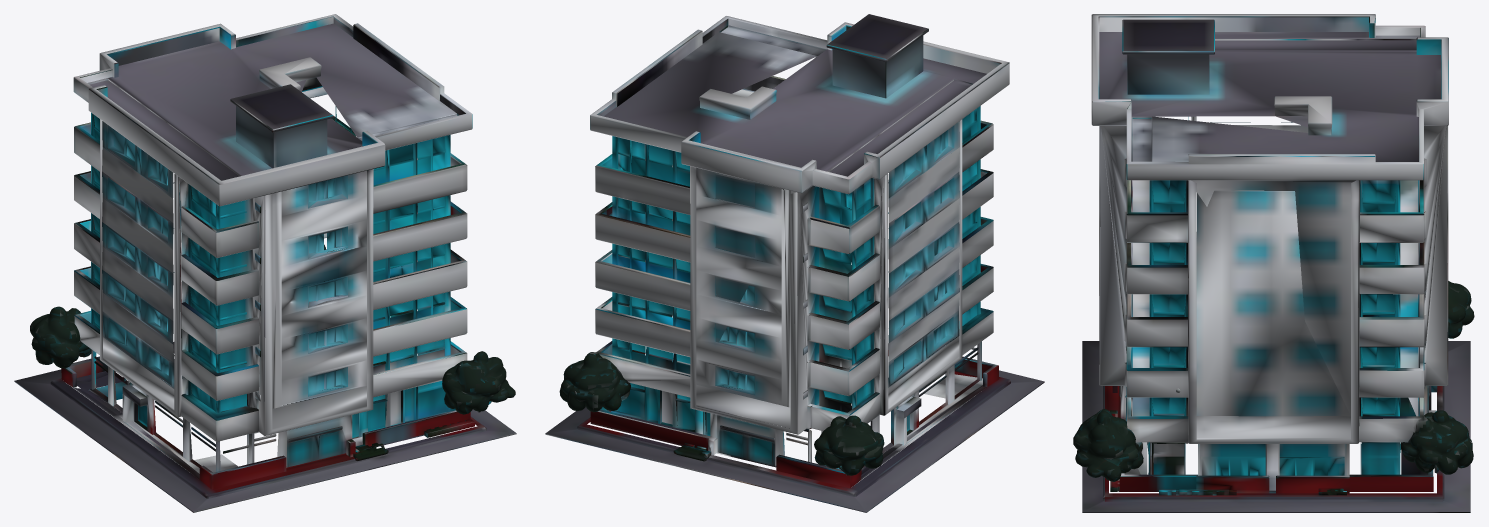
File: apartemen_1.glb
3 renders of one model, left to right at view 1: azimuth 30°, elevation 25°; view 2: azimuth 150°, elevation 25°; view 3: azimuth 270°, elevation 25°, orthographic. The views are drawn at different scales.
Visible parts, largest first — view 1: tripo_node_17eeee4e; view 2: tripo_node_17eeee4e; view 3: tripo_node_17eeee4e.
Part boxes in pixels (x1=…): tripo_node_17eeee4e: x1=14, y1=14, x2=516, y2=512; tripo_node_17eeee4e: x1=545, y1=14, x2=1044, y2=512; tripo_node_17eeee4e: x1=1073, y1=14, x2=1474, y2=512.
Bounding box in the file's own units: 0.9928 × 1 × 0.9702.
Materials: 1 (1 with a texture image).
